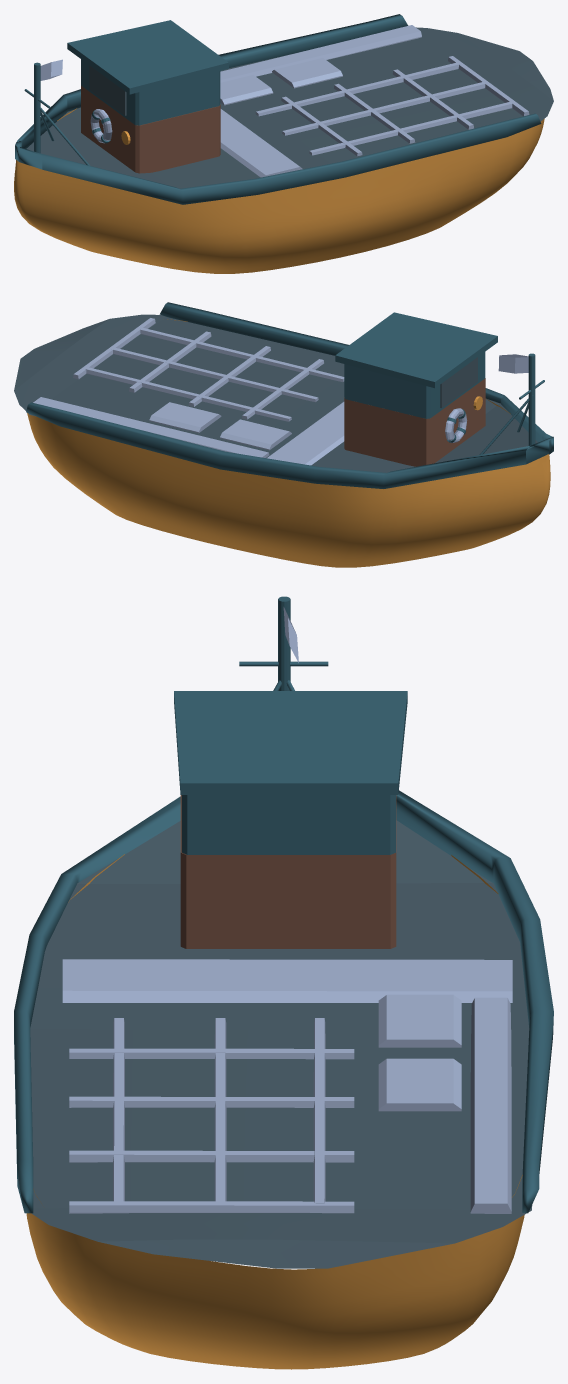
The model's file is Boat111.fbx.
The picture shows the model from 3 angles, top to bottom: view 1: azimuth 30°, elevation 25°; view 2: azimuth 150°, elevation 25°; view 3: azimuth 270°, elevation 25°; orthographic projection. The views are drawn at different scales.
Visible parts, largest first — view 1: Plane, Plane.001, Cube, group1630688789, group1483103472, Cube.001, group1935290195, Cube.004, Cube.003, Cube.005, Cube.011, Cube.012 (+10 smaller); view 2: Plane, Plane.001, Cube.001, group1630688789, group1483103472, group1935290195, Cube, Cube.003, Cube.004, Cube.005, Cube.011, Cube.002 (+10 smaller); view 3: Plane.001, Plane, group1630688789, group1483103472, Cube.003, group1935290195, Cube.001, Cube.004, Cube, Cube.012, Cube.002, Cube.009 (+7 smaller).
Boxes of the visible parts, x1,y1,x2,y2 form: Plane: (14,108,544,273); Plane.001: (26,27,553,188); Cube: (15,113,541,204); group1630688789: (67,20,228,94); group1483103472: (81,86,220,173); Cube.001: (15,14,408,148); group1935290195: (81,59,220,125); Cube.004: (220,25,421,82); Cube.003: (220,109,302,177); Cube.005: (255,62,460,116); Cube.011: (282,81,486,135); Cube.012: (272,58,342,88); Plane: (27,319,550,567); Plane.001: (14,314,537,472); Cube.001: (26,402,553,488); group1630688789: (335,312,497,388); group1483103472: (344,378,485,466); group1935290195: (344,352,485,418); Cube: (159,302,553,454); Cube.003: (267,402,344,465); Cube.004: (33,397,269,457); Cube.005: (84,367,291,421); Cube.011: (111,347,318,402); Cube.002: (220,419,291,450); Plane.001: (30,820,532,1268); Plane: (26,854,524,1369); group1630688789: (174,691,407,794); group1483103472: (180,795,396,948); Cube.003: (62,959,512,1002); group1935290195: (181,795,395,854); Cube.001: (396,790,553,1213); Cube.004: (470,997,511,1213); Cube: (14,796,180,1213); Cube.012: (378,1058,461,1111); Cube.002: (378,994,461,1047); Cube.009: (69,1201,354,1213).
Bounding box in the file's own units: 360 × 145 × 175.
